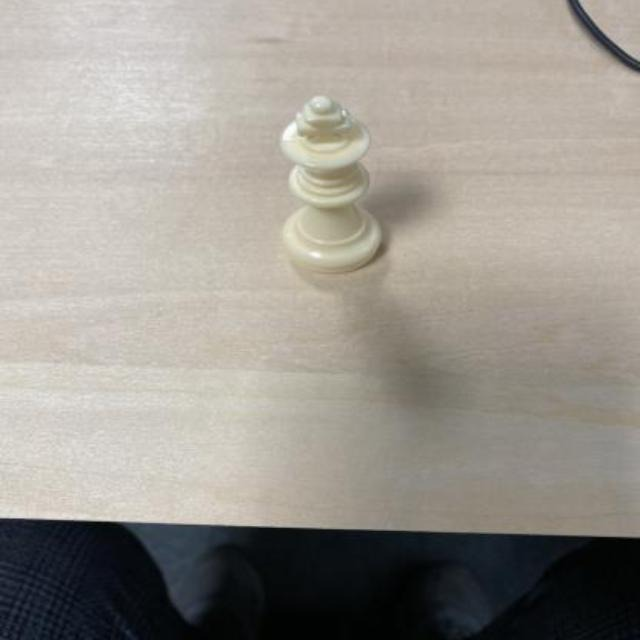white-king: (282, 96, 382, 272)
